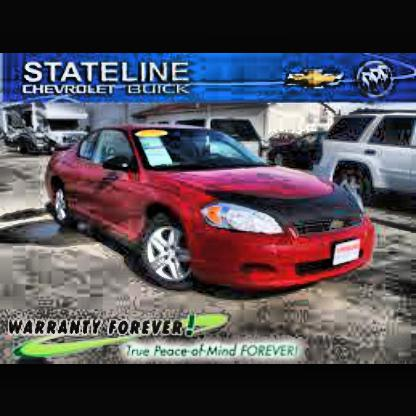Chevrolet Monte Carlo Coupe 2007: (46, 122, 380, 297)
